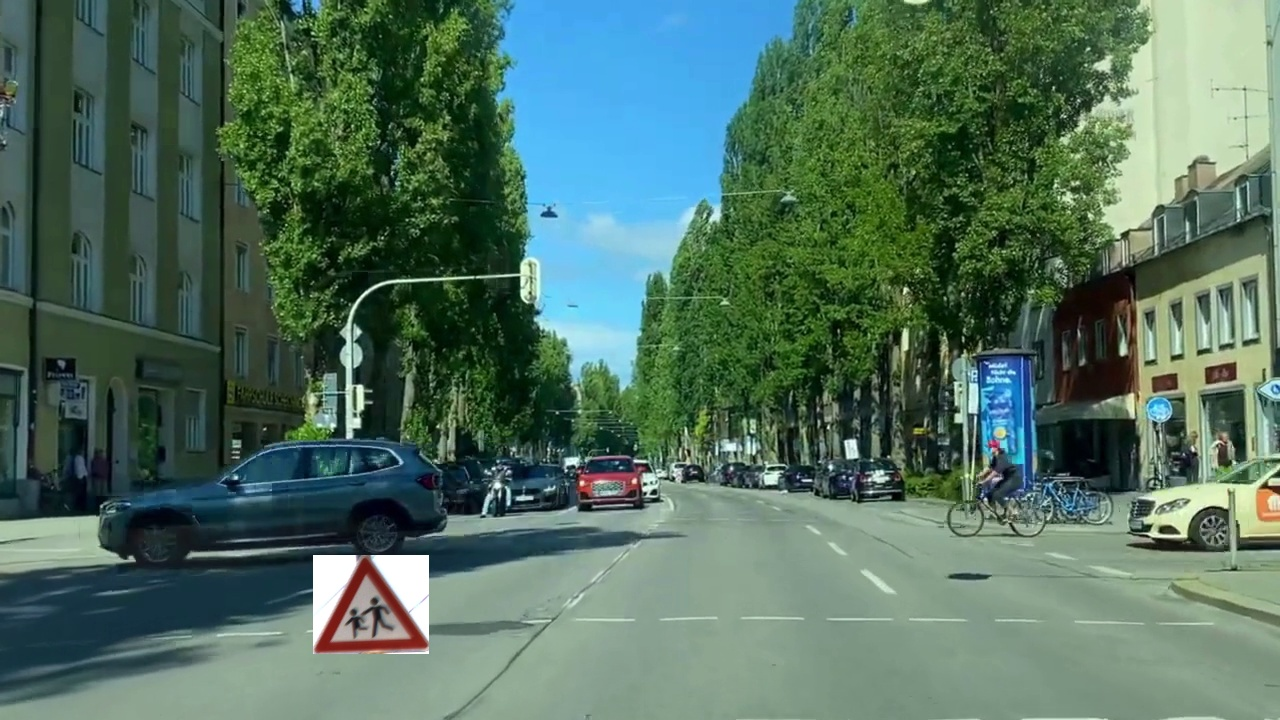Children: (313, 555, 429, 654)
